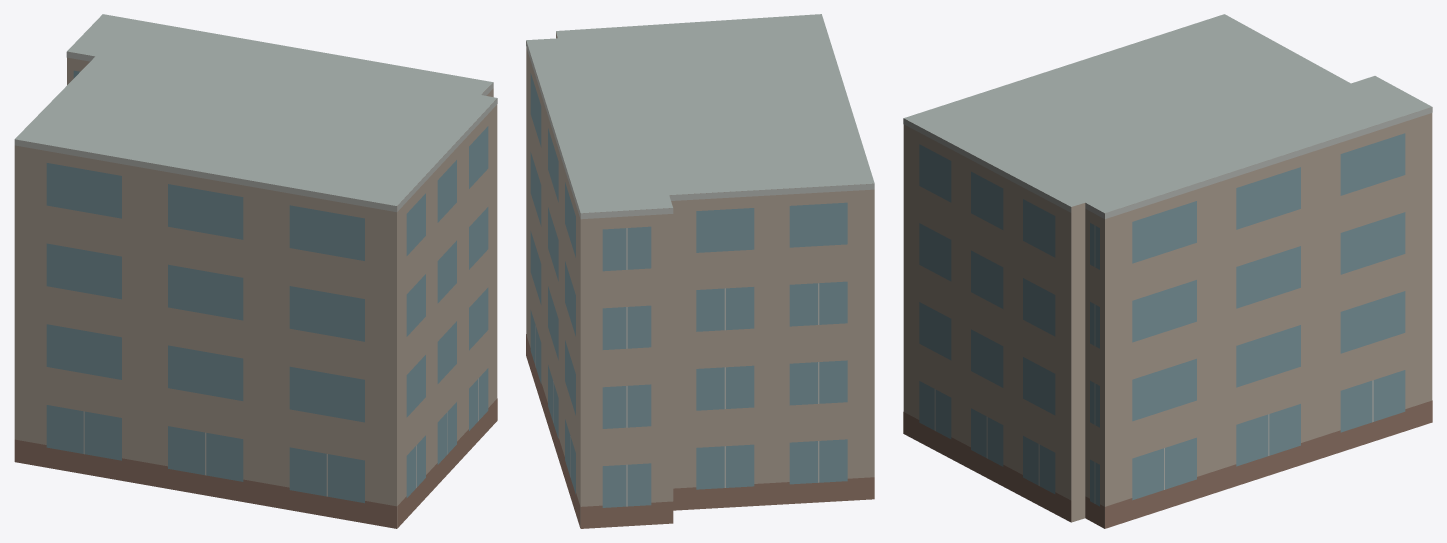
The model's file is survey-upis-32694071.glb.
The picture shows the model from 3 angles, left to right: view 1: azimuth 30°, elevation 25°; view 2: azimuth 150°, elevation 25°; view 3: azimuth 270°, elevation 25°; orthographic projection. The views are drawn at different scales.
Visible parts, largest first — view 1: survey-upis-32694071.tmp; view 2: survey-upis-32694071.tmp; view 3: survey-upis-32694071.tmp.
Boxes of the visible parts, x1,y1,x2,y2 form: survey-upis-32694071.tmp: (14, 14, 497, 528); survey-upis-32694071.tmp: (526, 14, 874, 528); survey-upis-32694071.tmp: (903, 14, 1432, 528).
Bounding box in the file's own units: 17.48 × 12.9 × 19.6.
